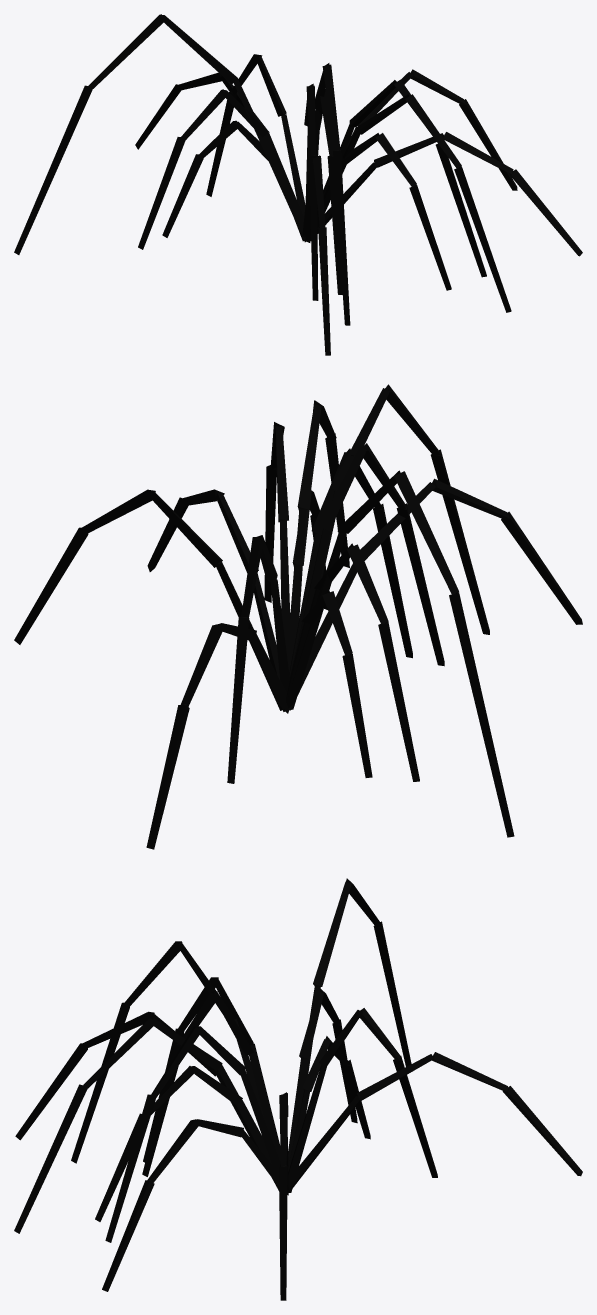
The model's file is SM_bramble.fbx.
3 renders of one model, top to bottom at view 1: azimuth 30°, elevation 25°; view 2: azimuth 150°, elevation 25°; view 3: azimuth 270°, elevation 25°, orthographic. The views are drawn at different scales.
Visible parts, largest first — view 1: bramble; view 2: bramble; view 3: bramble.
Boxes of the visible parts, x1,y1,x2,y2 form: bramble: (14,14,582,355); bramble: (14,384,582,849); bramble: (14,878,582,1300).
Size of the model in its own units: 1.72 by 0.8695 by 1.77.
